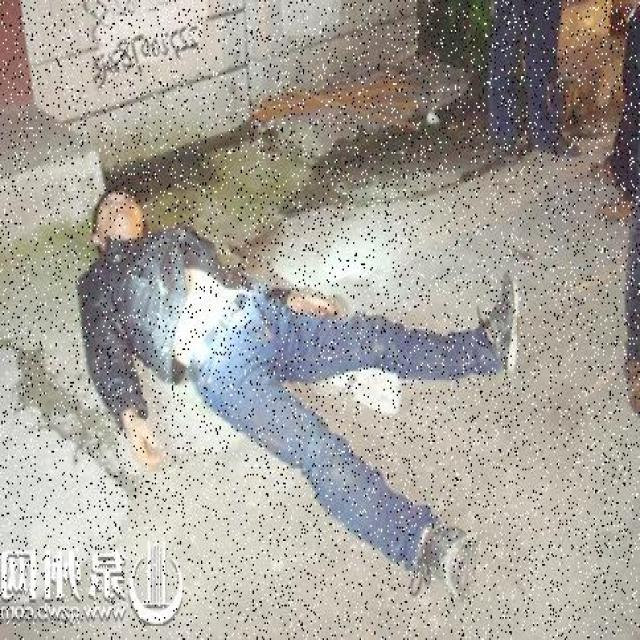fall: (90, 175, 487, 608)
